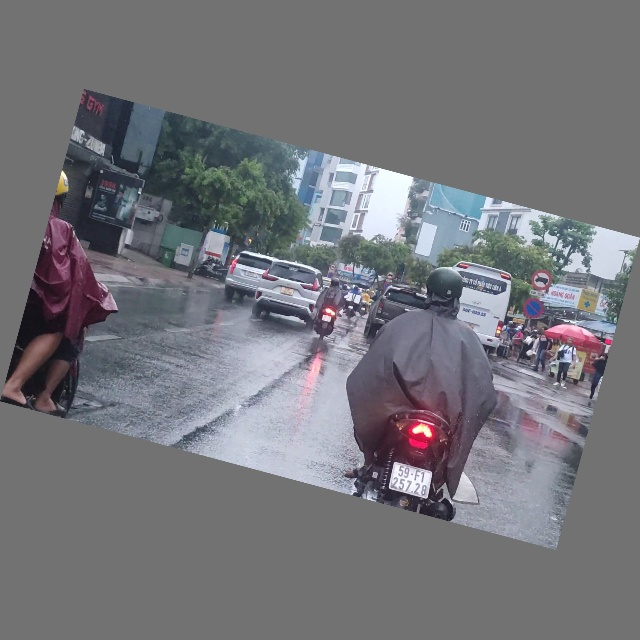P.106a*Xe tai: (529, 268, 555, 294), (385, 271, 396, 281)
P.131a: (520, 295, 547, 322)
